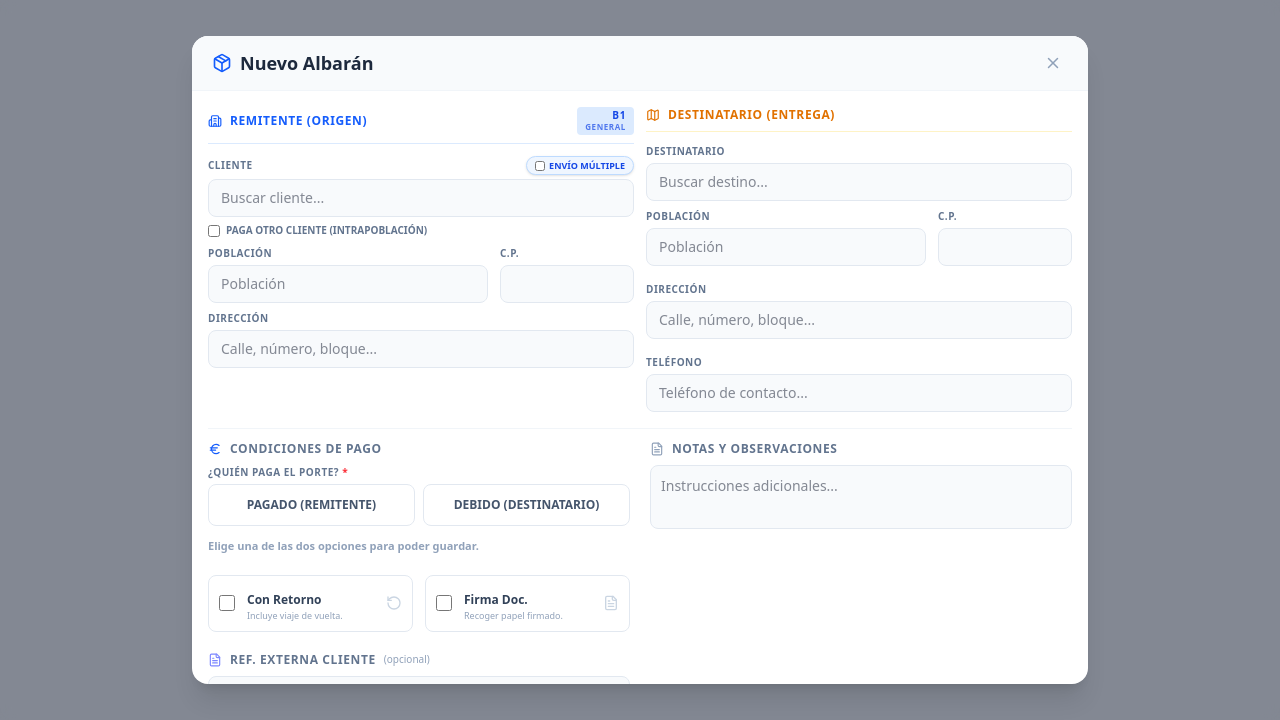
Scenario: CreateShipmentModal — qué fichas ofrece el buscador › aplica la misma regla al destinatario
Type "adamuz" into the field with placeholder "Buscar destino...". click: (859, 182)
box: top-left (646, 163), bottom-right (1072, 201)
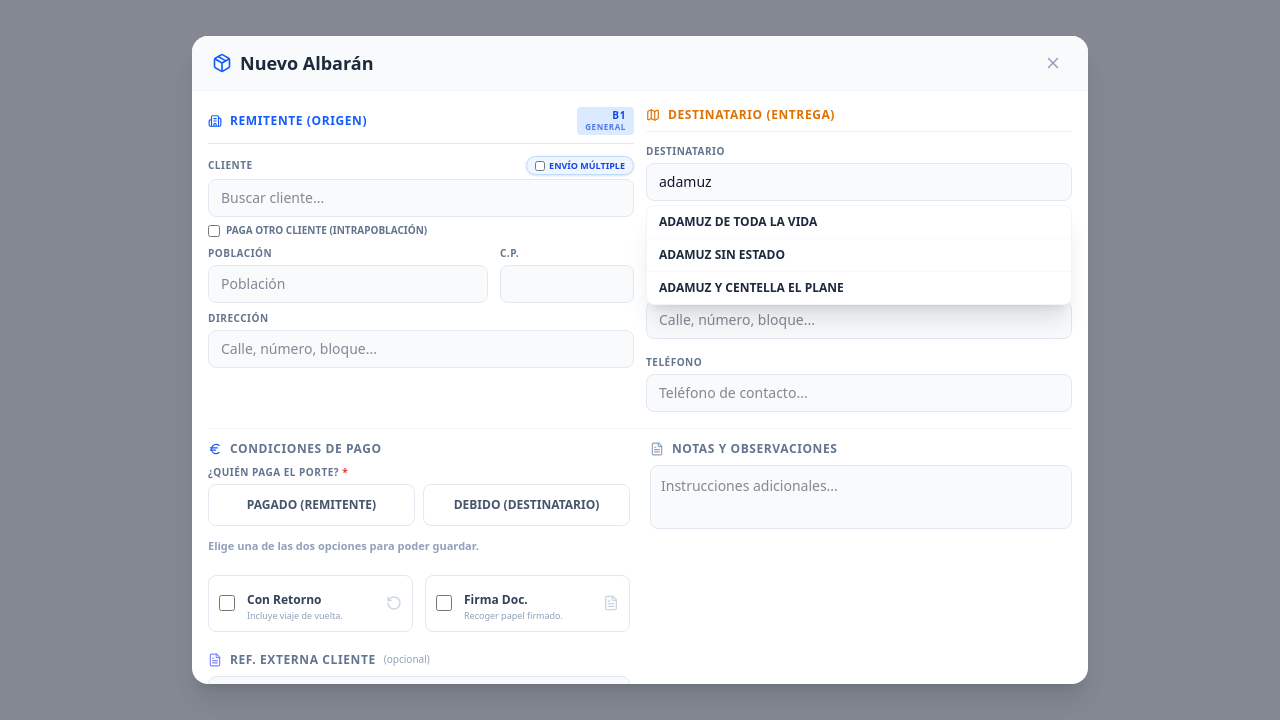
Now the text "ADAMUZ Y CENTELLA EL PLANE" is shown, box top-left (659, 279), bottom-right (844, 296)
